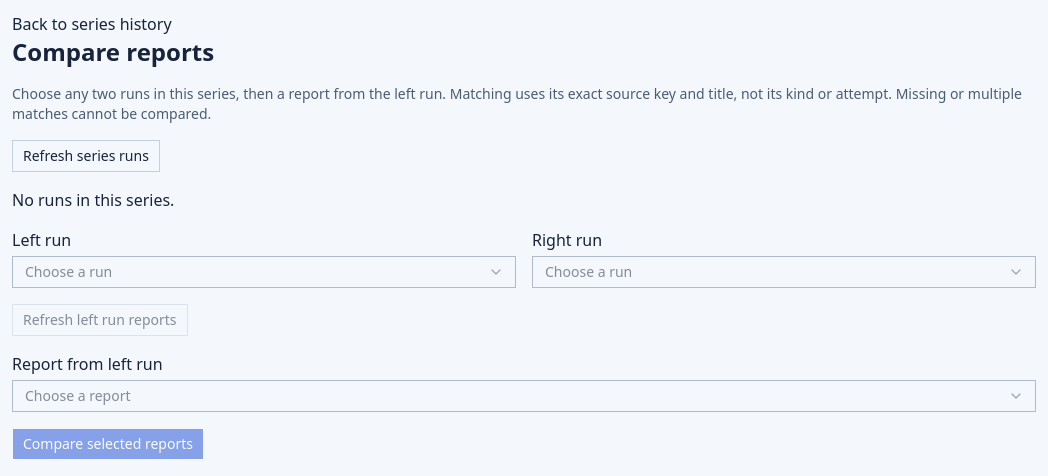
Test: series report comparison › shows empty history and a left run with no reports explicitly
Expected: the text "No runs in this series." is shown, [12,189,174,211]
Step 1. Click the button "Refresh series runs" → coordinates (86, 156), box [12,140,160,172]
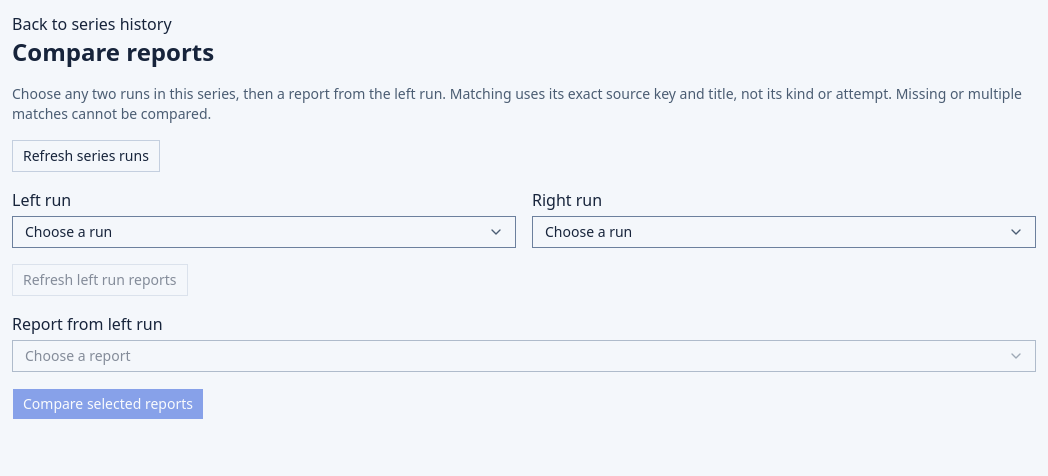
Step 2. Select "019ed132-2f44-7000-8000-000000000010 | 16 Oct 2026, 07:00:00.000 UTC | Succeeded" in the dropdown labelled "Left run" → coordinates (264, 232), box [12,216,516,248]
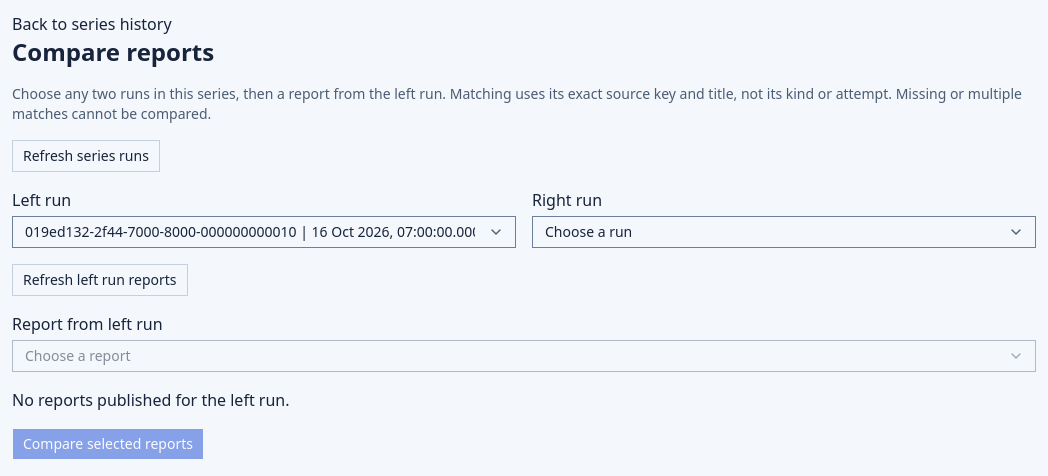
Expected: the text "No reports published for the left run." is shown, [12,389,290,411]
